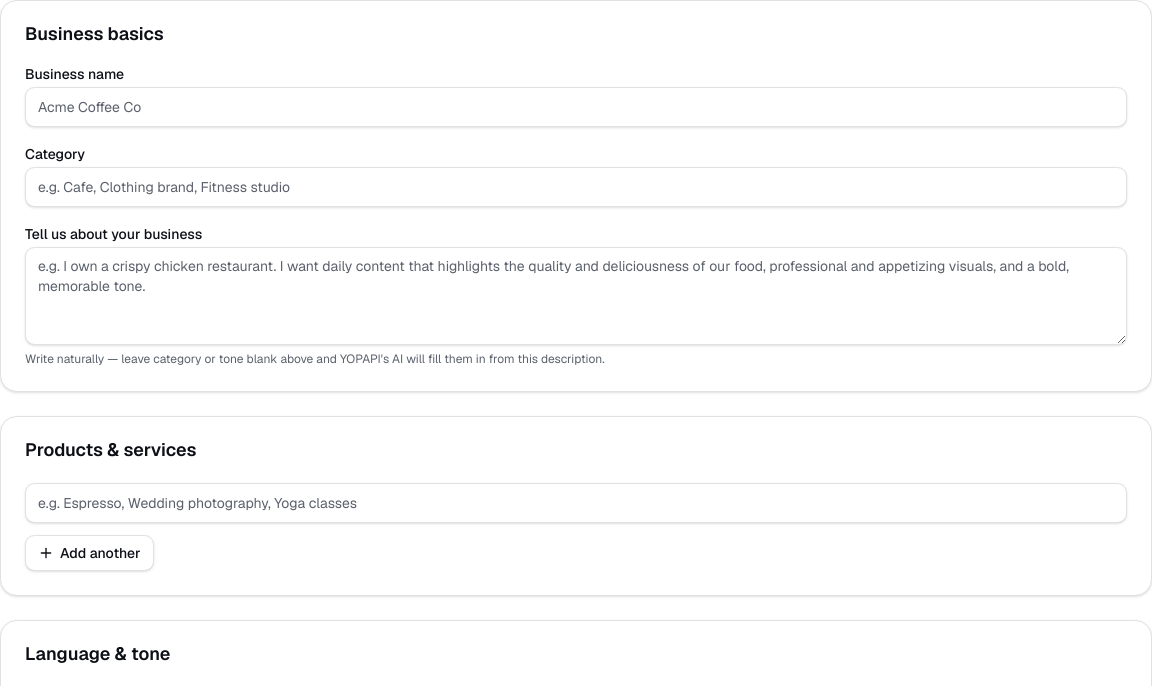
Test case: OnboardingWizard › still allows adding another product/service field
This screenshot has width=1152, height=686.
Click the button "Add another" at (89, 553), box [25,535,154,571]
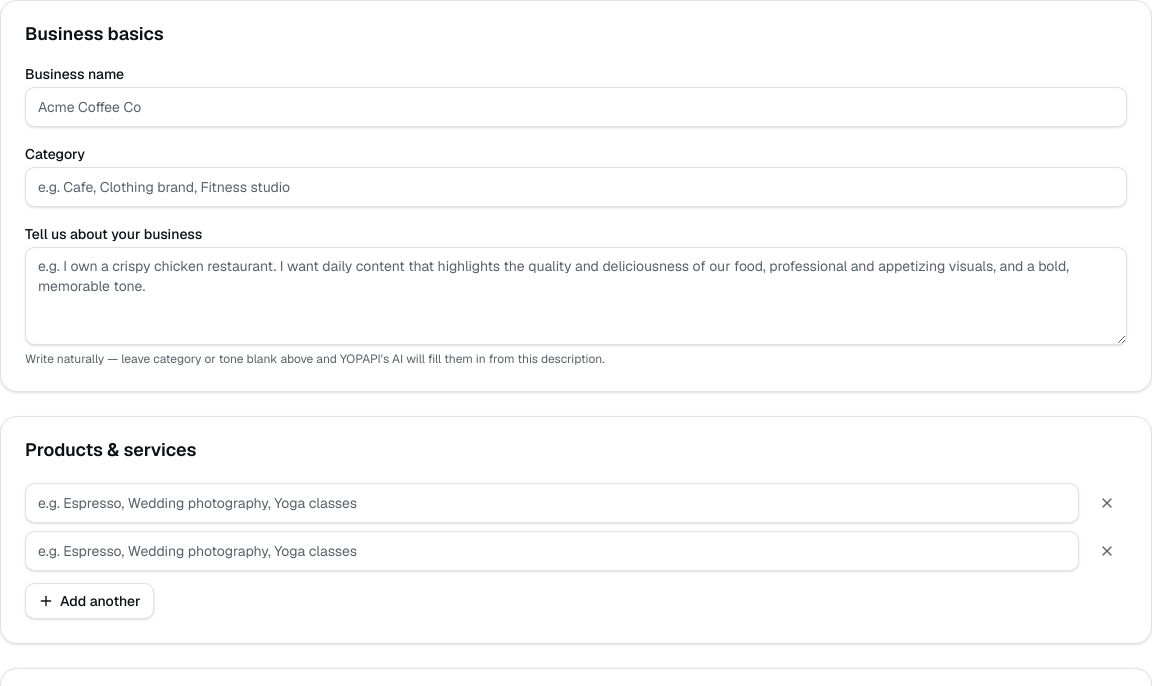
Check: the number of fields with placeholder "e.g. Espresso, Wedding photography, Yoga classes" is 2, box [25,483,1079,523]; [25,531,1079,571]
